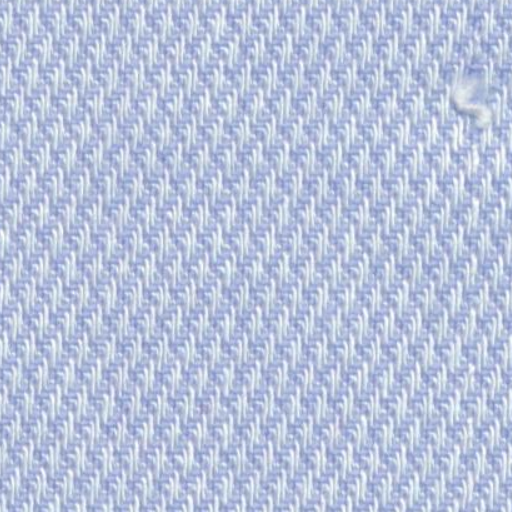DuanSha: (436, 54, 500, 132)
